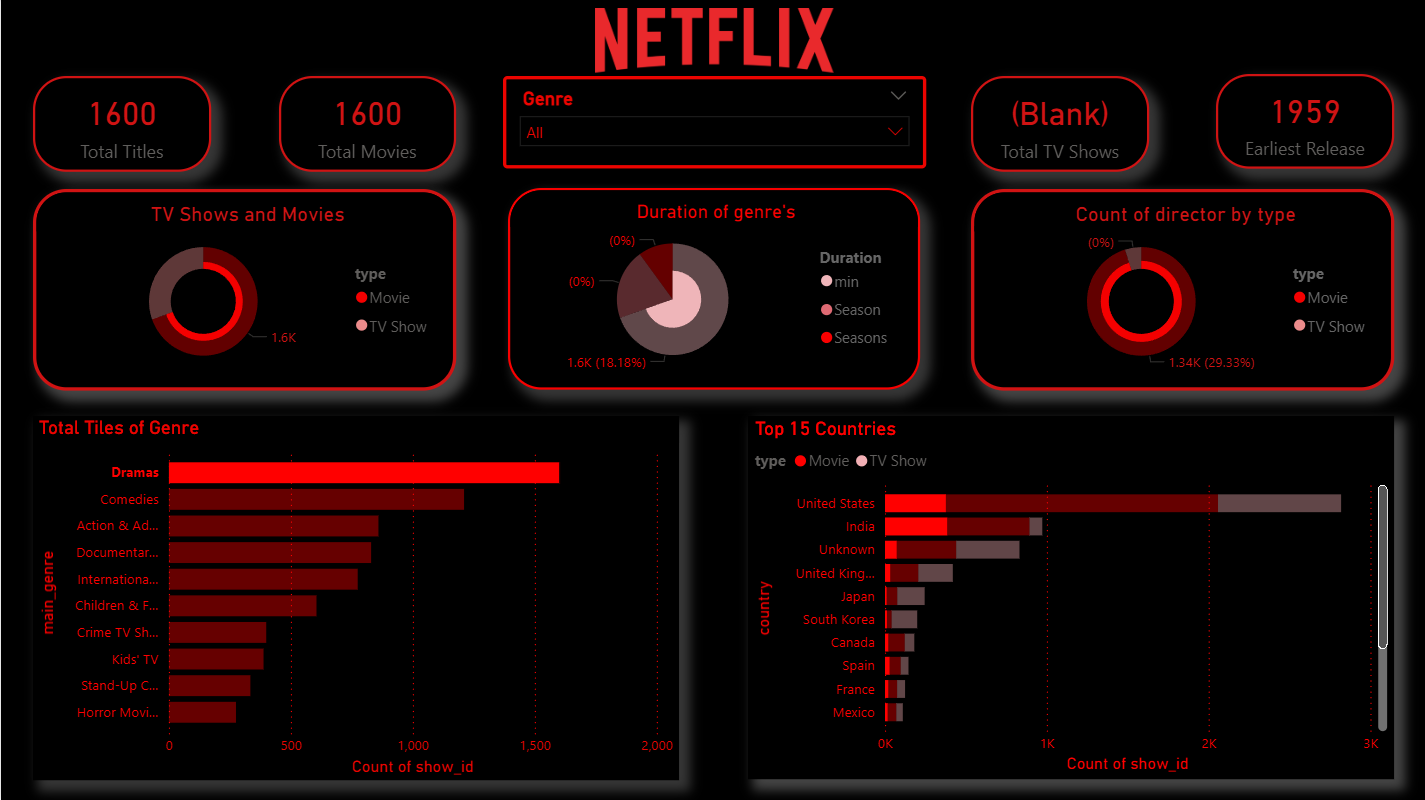

Layout of this report page (visuals, bound fields, positions):
{"tool":"powerbi","page":{"name":"Page 1","canvas":[1280,720],"ordinal":0},"visuals":[{"type":"card","fields":{"Values":["netflix_cleaned_final.Total Movies"]},"box":[249.5,68.7,158.6,85.9],"z":0},{"type":"card","fields":{"Values":["netflix_cleaned_final.Total Titles"]},"box":[28.3,68.7,159.6,85.9],"z":1000},{"type":"card","fields":{"Values":["netflix_cleaned_final.Total TV Shows"]},"box":[870.7,68.7,159.6,85.9],"z":2000},{"type":"card","fields":{"Values":["netflix_cleaned_final.Earliest Release"]},"box":[1090.9,67.7,159.6,84.8],"z":3000},{"type":"donutChart","title":"TV Shows and Movies","fields":{"Category":["netflix_cleaned_final.type"],"Y":["CountNonNull(netflix_cleaned_final.show_id)"]},"box":[28.3,170.7,379.8,180.8],"z":4000},{"type":"barChart","title":"Total Tiles of Genre","fields":{"Category":["netflix_cleaned_final.main_genre"],"Y":["Count(netflix_cleaned_final.show_id)"]},"box":[28.3,374.7,580,327.3],"z":5000},{"type":"slicer","fields":{"Values":["netflix_cleaned_final.main_genre","netflix_cleaned_final.type"]},"box":[450.5,68.7,379.8,82.8],"z":6000},{"type":"barChart","title":"Top 15 Countries","fields":{"Y":["Count(netflix_cleaned_final.show_id)"],"Category":["netflix_cleaned_final.country"],"Series":["netflix_cleaned_final.type"]},"box":[670.7,374.7,579.8,326.3],"z":7000},{"type":"donutChart","fields":{"Category":["netflix_cleaned_final.type"],"Y":["Count(netflix_cleaned_final.director)"]},"box":[870.7,170.7,379.8,180.8],"z":8000},{"type":"image","box":[524.2,8.1,232.3,57.6],"z":9000},{"type":"pieChart","title":"Duration of genre''s","fields":{"Y":["CountNonNull(netflix_cleaned_final.main_genre)"],"Series":["netflix_cleaned_final.duration_unit"]},"box":[455.6,169.7,369.7,180.8],"z":10000}]}

Visuals, with their boxes in screenshot pixels (x1, y1, x2, y2), scaled from the page's 1280x720 canvas onto the 1425x800 screenshot:
card - netflix_cleaned_final.Total Movies: 278:76:454:172
card - netflix_cleaned_final.Total Titles: 32:76:209:172
card - netflix_cleaned_final.Total TV Shows: 969:76:1147:172
card - netflix_cleaned_final.Earliest Release: 1214:75:1392:169
"TV Shows and Movies" donutChart: 32:190:454:391
"Total Tiles of Genre" barChart: 32:416:677:780
slicer - netflix_cleaned_final.main_genre x netflix_cleaned_final.type: 502:76:924:168
"Top 15 Countries" barChart: 747:416:1392:779
donutChart - netflix_cleaned_final.type x Count(netflix_cleaned_final.director): 969:190:1392:391
image: 584:9:842:73
"Duration of genre''s" pieChart: 507:189:919:389
